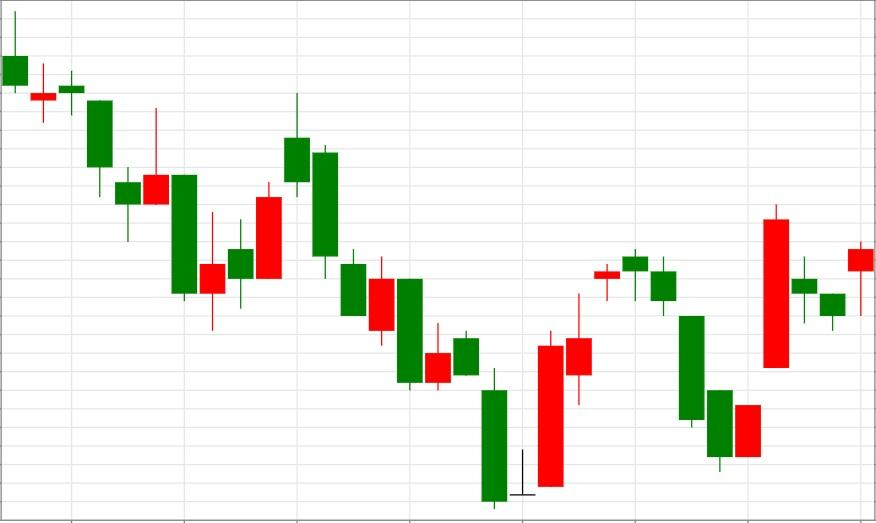morning_star_rise: (285, 90, 565, 509)
three_black_crows_fall: (480, 249, 706, 509)
